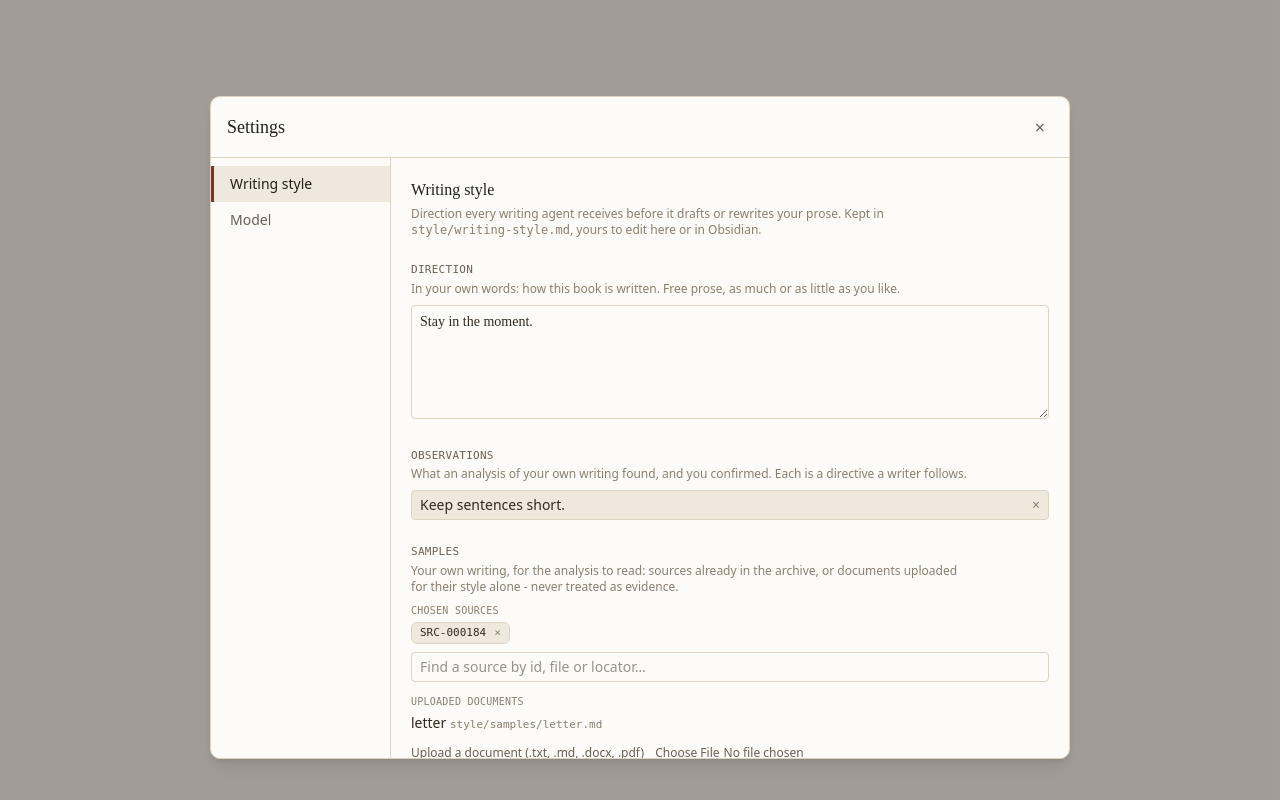
Test: the settings dialog › has a Model row that opens the direct-run settings
Expected: the text box named "Direction" is shown, [411,304,1049,418]
What coordinates should you click on to do the following:
click the button "Model"
I would click on:
 (300, 220)
Its box is [211,202,390,238].
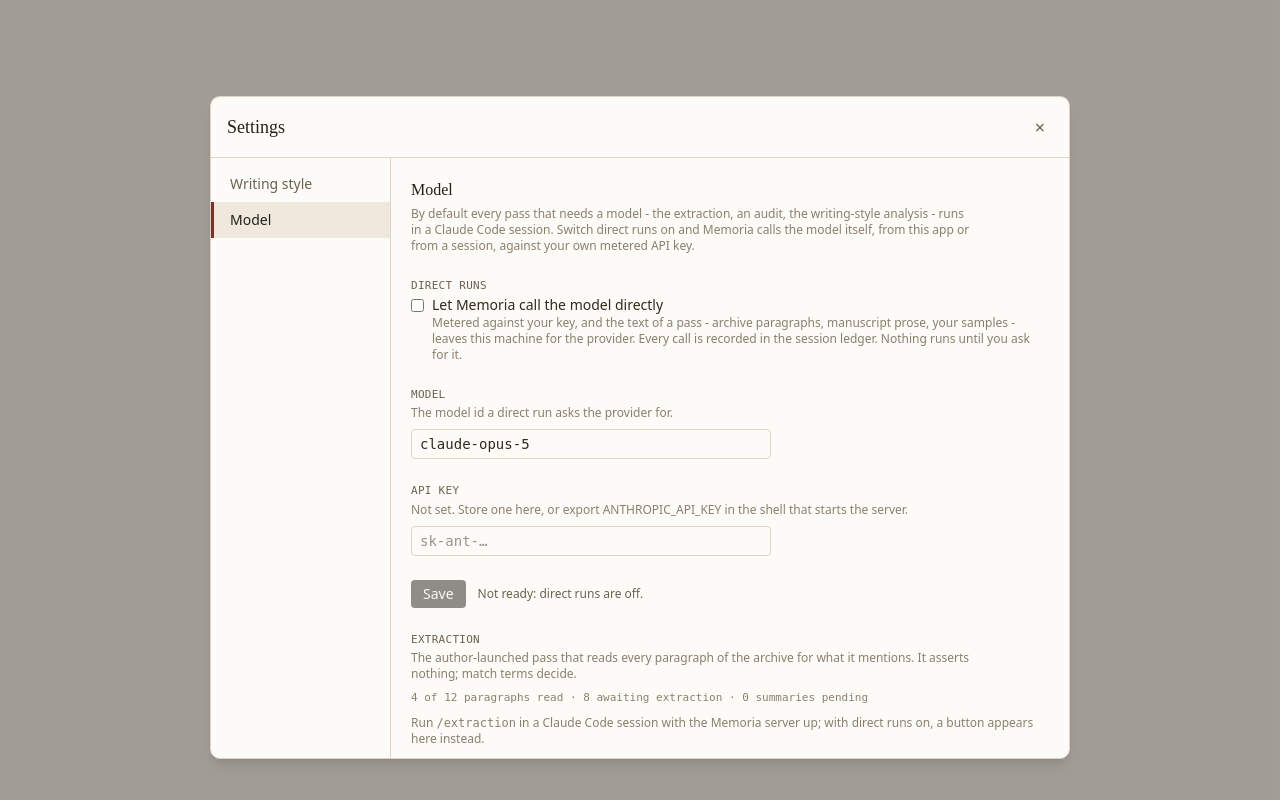
Expected: the checkbox labelled "Let Memoria call the model directly" is not checked, [411,298,424,312]
Expected: the text "Not ready: direct runs are off." is shown, [478,586,643,602]
Expected: the text "8 awaiting" is shown, [411,691,868,704]
